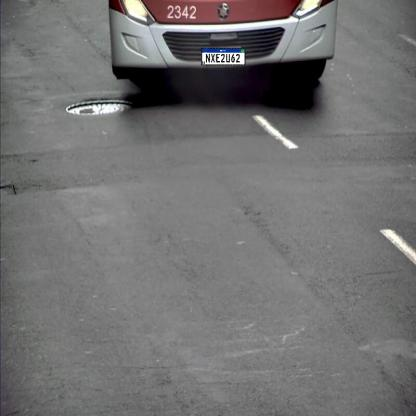PlacaM: (202, 48, 246, 65)
